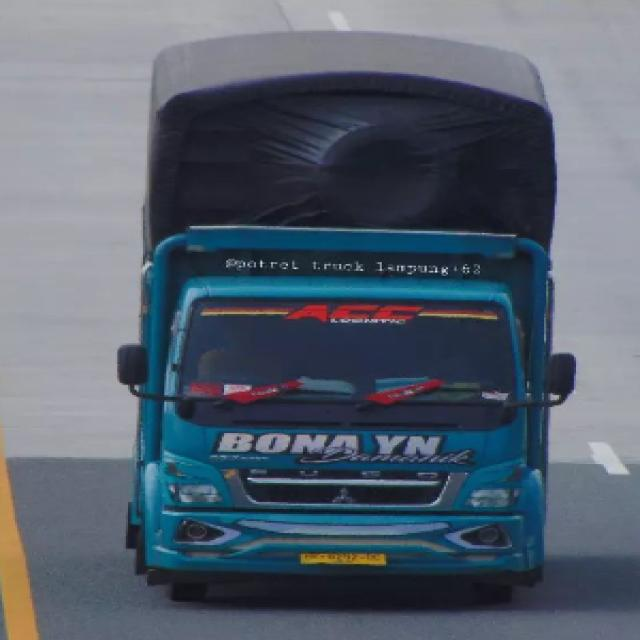truck: (96, 24, 588, 603)
